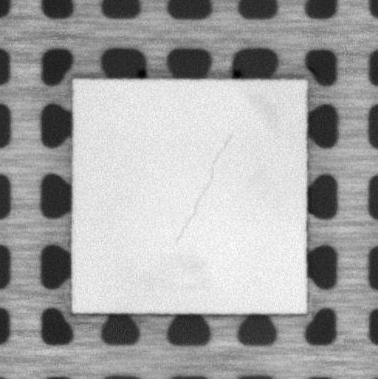DIE_CRACK: (172, 131, 233, 246)
